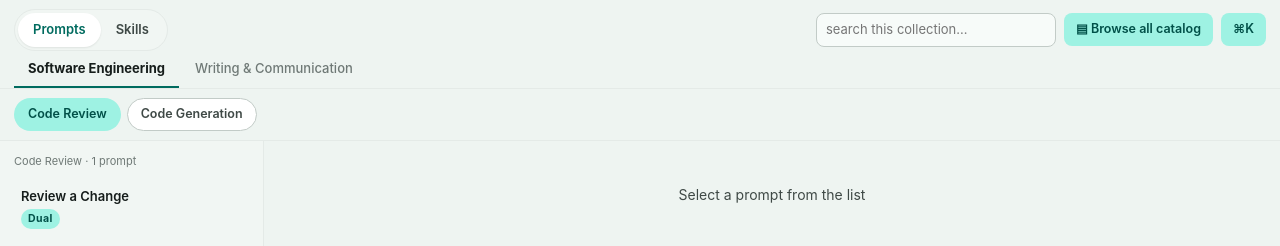
Test: PromptsCollectionView component › search filters the prompts list
Expected: the option "Review a Change Dual" is shown, [21,188,129,229]
// Type a non-matching search query
Type "zzznomatch" into the field named "Search prompts" at x=936, y=30, box [816,13,1056,46]
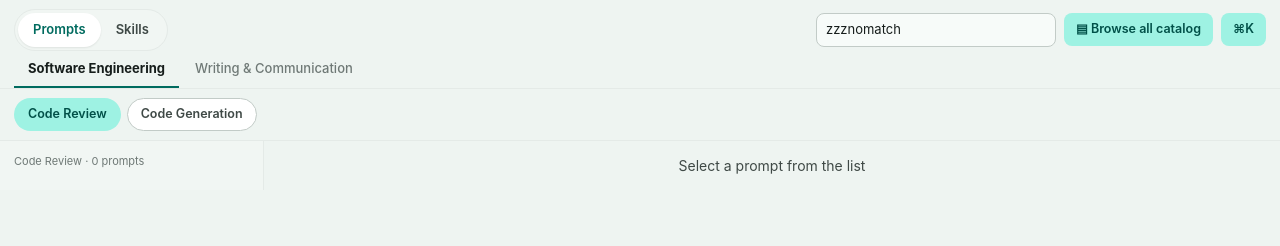
Expected: the option "Review a Change" is gone
